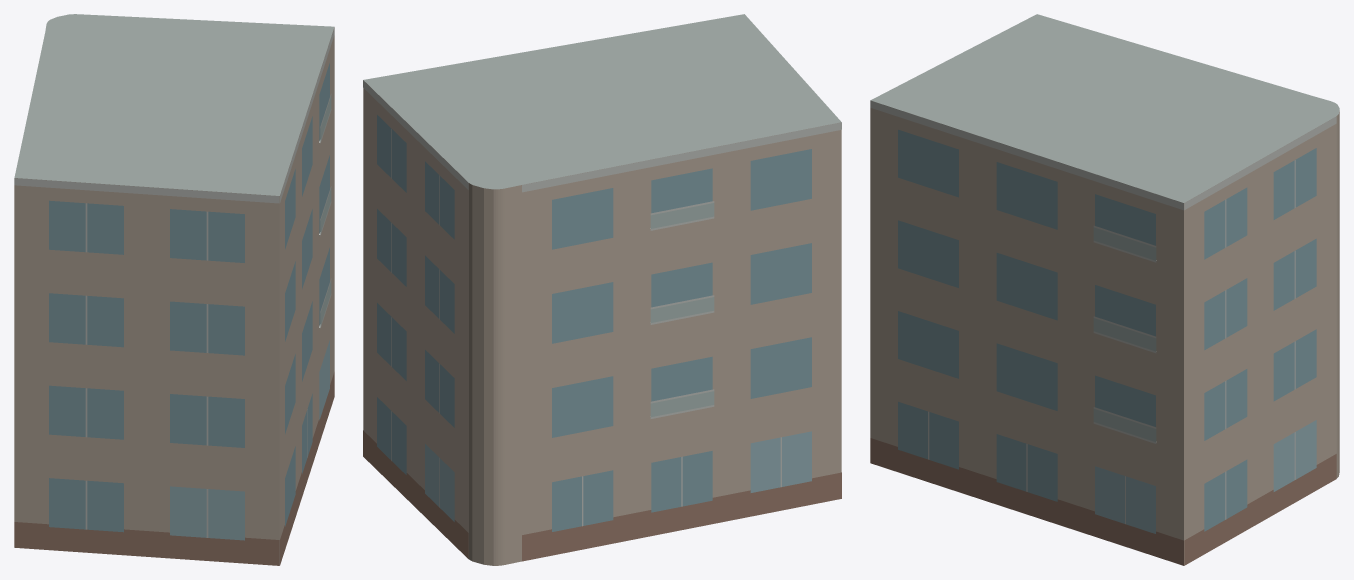
The model's file is survey-upis-32980144.glb.
The picture shows the model from 3 angles, left to right: view 1: azimuth 30°, elevation 25°; view 2: azimuth 150°, elevation 25°; view 3: azimuth 270°, elevation 25°; orthographic projection. The views are drawn at different scales.
Parts seen in each view (by area): view 1: survey-upis-32980144.tmp; view 2: survey-upis-32980144.tmp; view 3: survey-upis-32980144.tmp.
Boxes of the visible parts, x1,y1,x2,y2 form: survey-upis-32980144.tmp: (14, 14, 334, 565); survey-upis-32980144.tmp: (363, 14, 841, 565); survey-upis-32980144.tmp: (870, 14, 1339, 565).
Size of the model in its own units: 13.54 by 12.1 by 14.2.
